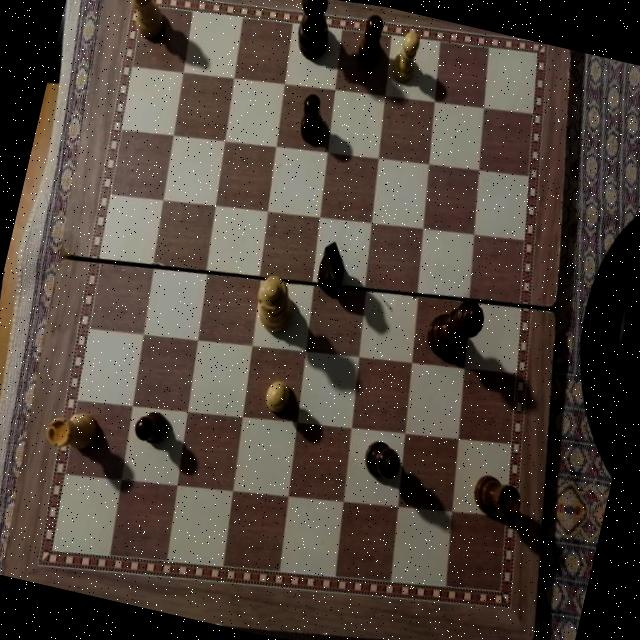corners: (518, 631, 544, 640)
